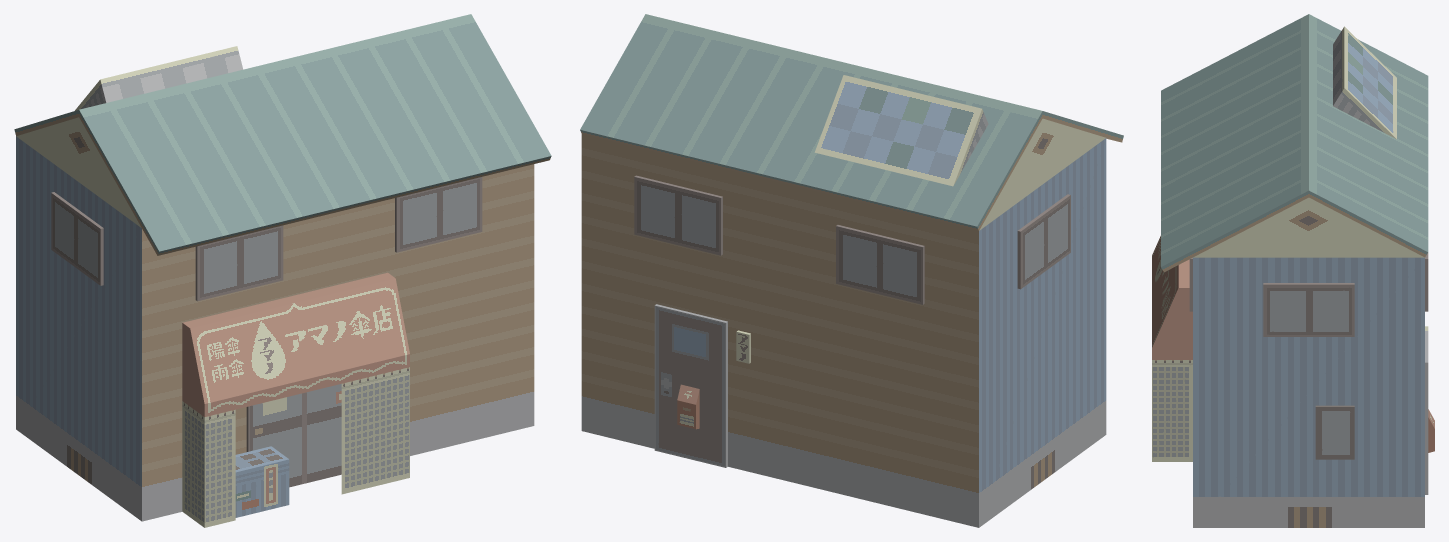
File: 03cb_Umbrella_Shop.glb
The picture shows the model from 3 angles, left to right: view 1: azimuth 30°, elevation 25°; view 2: azimuth 150°, elevation 25°; view 3: azimuth 270°, elevation 25°; orthographic projection. The views are drawn at different scales.
Parts seen in each view (by area): view 1: part_0; view 2: part_0; view 3: part_0.
Part boxes in pixels (<box>): part_0: <box>14,14,551,527</box>; part_0: <box>580,14,1123,527</box>; part_0: <box>1152,14,1434,527</box>.
Size of the model in its own units: 6.4 by 5.71 by 4.27.
Materials: 1 (1 with a texture image).
